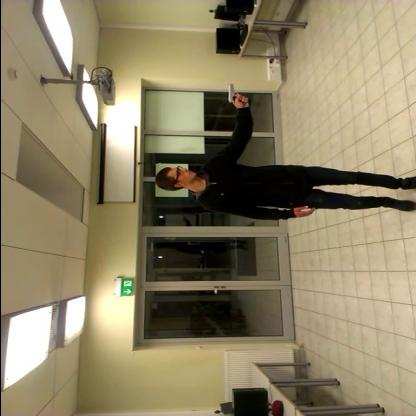Pistol: (217, 80, 251, 113)
